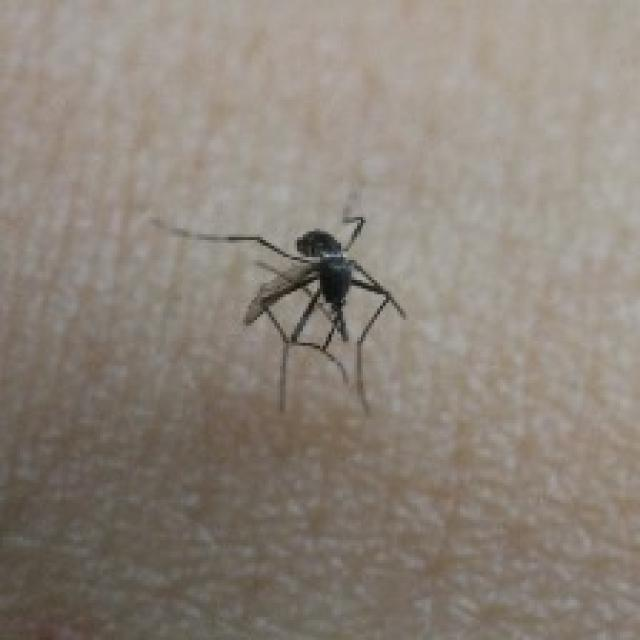aedes: (146, 206, 406, 414)
